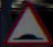Speed Breaker ahead: (9, 5, 48, 44)
